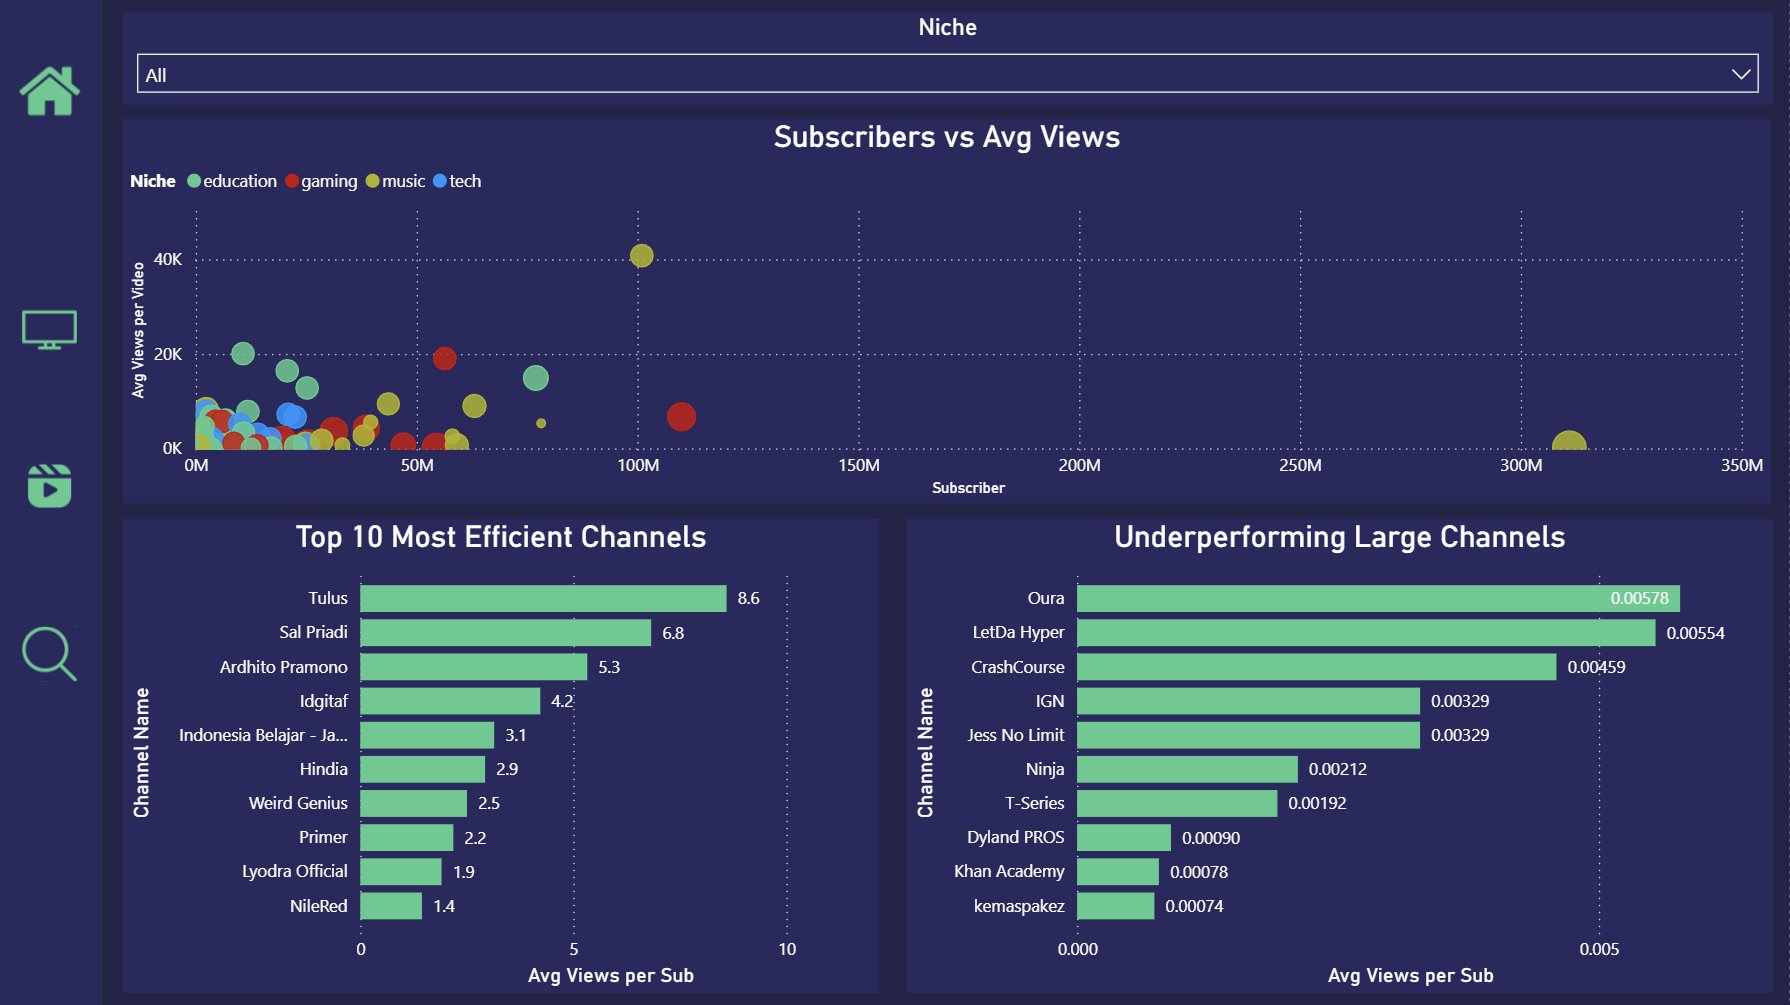

The dashboard page shown, as its layout file describes it:
{"tool":"powerbi","page":{"name":"Channel Opportunity Map","canvas":[1280,720],"ordinal":2},"visuals":[{"type":"shape","box":[0,0,75.2,720.3],"z":0},{"type":"actionButton","box":[0,212.9,75.2,47.2],"z":1},{"type":"actionButton","box":[0,323.8,75.2,47.2],"z":2},{"type":"actionButton","box":[0,443.7,75.2,47.2],"z":3},{"type":"scatterChart","title":"Subscribers vs Avg Views","fields":{"X":["Sum(dim_channels.subscriber_count)"],"Y":["fct_video_performance.Avg Views per Video"],"Series":["dim_channels.niche"],"Size":["fct_video_performance.Total Videos"],"Category":["dim_channels.channel_name"]},"box":[90,85.7,1177.1,274.3],"z":4},{"type":"clusteredBarChart","title":"Top 10 Most Efficient Channels","fields":{"Category":["dim_channels.channel_name"],"Y":["agg_channel_metrics.Avg Views per Sub"]},"box":[90,371.4,540,338.6],"z":5},{"type":"clusteredBarChart","title":"Underperforming Large Channels","fields":{"Category":["dim_channels.channel_name"],"Y":["agg_channel_metrics.Avg Views per Sub"]},"box":[650,371.4,618.6,338.6],"z":6},{"type":"slicer","title":"Niche","fields":{"Values":["dim_channels.niche"]},"box":[90,10,1178.6,65.7],"z":7},{"type":"actionButton","box":[0,40,75.7,51.4],"z":8}]}

Visuals, with their boxes on the page's 1280x720 design canvas (x1, y1, x2, y2). These are canvas units, not pixel positions in the 1790x1005 screenshot, which may show the page scaled, cropped or inside an application window:
shape: Rect(0, 0, 75, 720)
actionButton: Rect(0, 213, 75, 260)
actionButton: Rect(0, 324, 75, 371)
actionButton: Rect(0, 444, 75, 491)
"Subscribers vs Avg Views" scatterChart: Rect(90, 86, 1267, 360)
"Top 10 Most Efficient Channels" clusteredBarChart: Rect(90, 371, 630, 710)
"Underperforming Large Channels" clusteredBarChart: Rect(650, 371, 1269, 710)
"Niche" slicer: Rect(90, 10, 1269, 76)
actionButton: Rect(0, 40, 76, 91)
